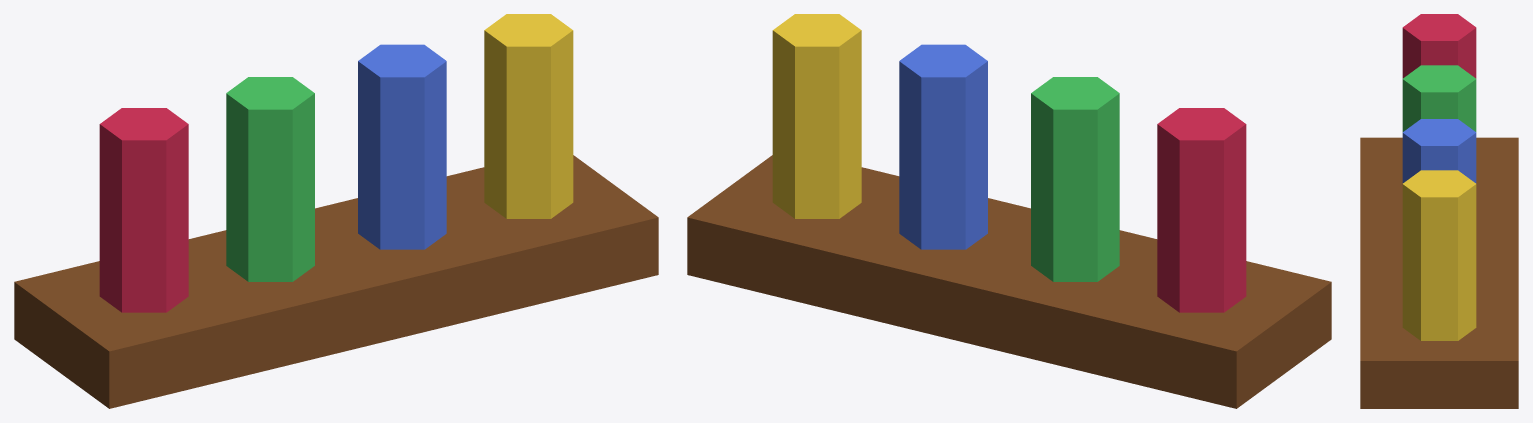
File: vial_rack.glb
3 renders of one model, left to right at view 1: azimuth 30°, elevation 25°; view 2: azimuth 150°, elevation 25°; view 3: azimuth 270°, elevation 25°, orthographic. The views are drawn at different scales.
Parts seen in each view (by area): view 1: vial_rack; view 2: vial_rack; view 3: vial_rack.
Boxes of the visible parts, <box> form: vial_rack: <box>14,14,658,408</box>; vial_rack: <box>687,14,1331,408</box>; vial_rack: <box>1360,14,1518,408</box>.
Size of the model in its own units: 1 by 0.4 by 0.3.
